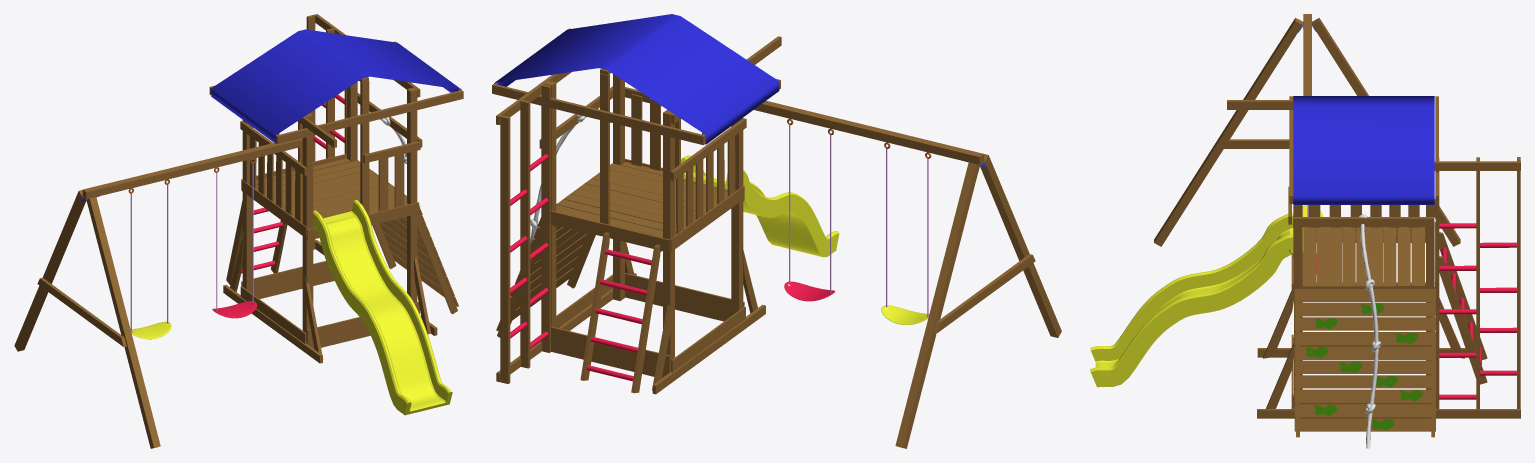
The model's file is playground.obj.
The picture shows the model from 3 angles, left to right: view 1: azimuth 30°, elevation 25°; view 2: azimuth 150°, elevation 25°; view 3: azimuth 270°, elevation 25°; orthographic projection. The views are drawn at different scales.
Parts seen in each view (by area): view 1: krisha, Loft01, brus07, brus05, brus01, brus02, brus06, dosk41, brus04, dosk39, dosk47, dosk02 (+22 smaller); view 2: krisha, Loft01, brus06, dosk51, brus05, dosk52, dosk54, brus07, brus04, dosk42, brus01, dosk14 (+28 smaller); view 3: krisha, Loft01, brus07, dosk53, dosk24, dosk18, dosk23, dosk20, dosk25, dosk19, dosk22, dosk21 (+29 smaller).
Part boxes in pixels (x1,y1,x2,y2): krisha: (211,29,461,143); Loft01: (313,200,452,415); brus07: (86,197,160,448); brus05: (82,138,302,199); brus01: (302,113,313,343); brus02: (407,87,417,303); brus06: (14,190,86,351); dosk41: (276,90,463,143); brus04: (242,120,253,293); dosk39: (360,81,369,214); dosk47: (37,277,126,346); dosk02: (223,285,322,363); krisha: (494,14,779,144); Loft01: (680,155,839,257); brus06: (895,162,979,448); dosk51: (500,115,510,383); brus05: (754,100,984,164); dosk52: (520,99,530,368); dosk54: (541,84,551,352); brus07: (980,154,1061,337); brus04: (663,109,674,371); dosk42: (492,84,705,145); brus01: (731,118,743,315); dosk14: (550,210,670,252); krisha: (1293,96,1434,204); Loft01: (1090,213,1303,387); brus07: (1154,18,1302,246); dosk53: (1294,289,1435,302); dosk24: (1294,303,1435,316); dosk18: (1294,389,1435,402); dosk23: (1294,317,1435,330); dosk20: (1294,360,1435,373); dosk25: (1294,418,1435,431); dosk19: (1294,375,1435,388); dosk22: (1294,332,1435,345); dosk21: (1294,346,1435,359).
Bounding box in the file's own units: 5281 × 3352 × 4573.
